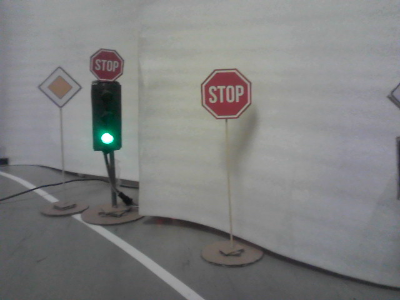priority_road: (38, 68, 79, 107)
stop: (202, 69, 250, 118), (90, 49, 123, 81)
trafficlight_green: (92, 84, 121, 149)
